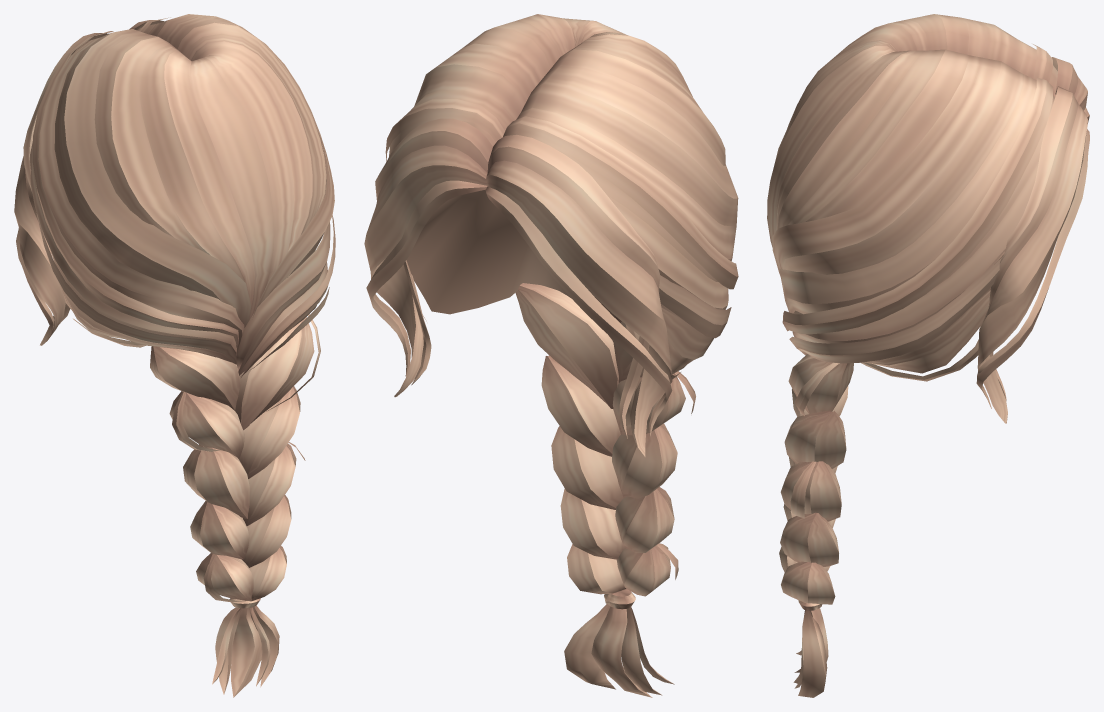
3 views of the same model, side by side, from view 1: azimuth 30°, elevation 25°; view 2: azimuth 150°, elevation 25°; view 3: azimuth 270°, elevation 25° (orthographic). The views are drawn at different scales.
Parts seen in each view (by area): view 1: geometry_0; view 2: geometry_0; view 3: geometry_0.
Part boxes in pixels (<box>): geometry_0: <box>14,14,335,697</box>; geometry_0: <box>364,14,738,697</box>; geometry_0: <box>767,14,1089,697</box>.
Bounding box in the file's own units: 1.48 × 3.27 × 1.47.
Materials: 1 (1 with a texture image).
